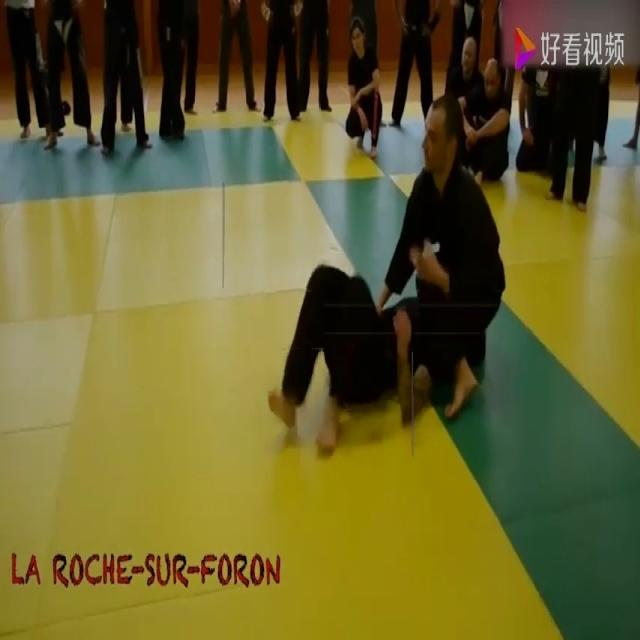fight: (264, 85, 504, 464)
non-fight: (494, 0, 628, 208), (144, 0, 208, 148), (1, 0, 63, 152), (386, 0, 447, 140), (209, 0, 262, 113), (288, 0, 338, 117)
